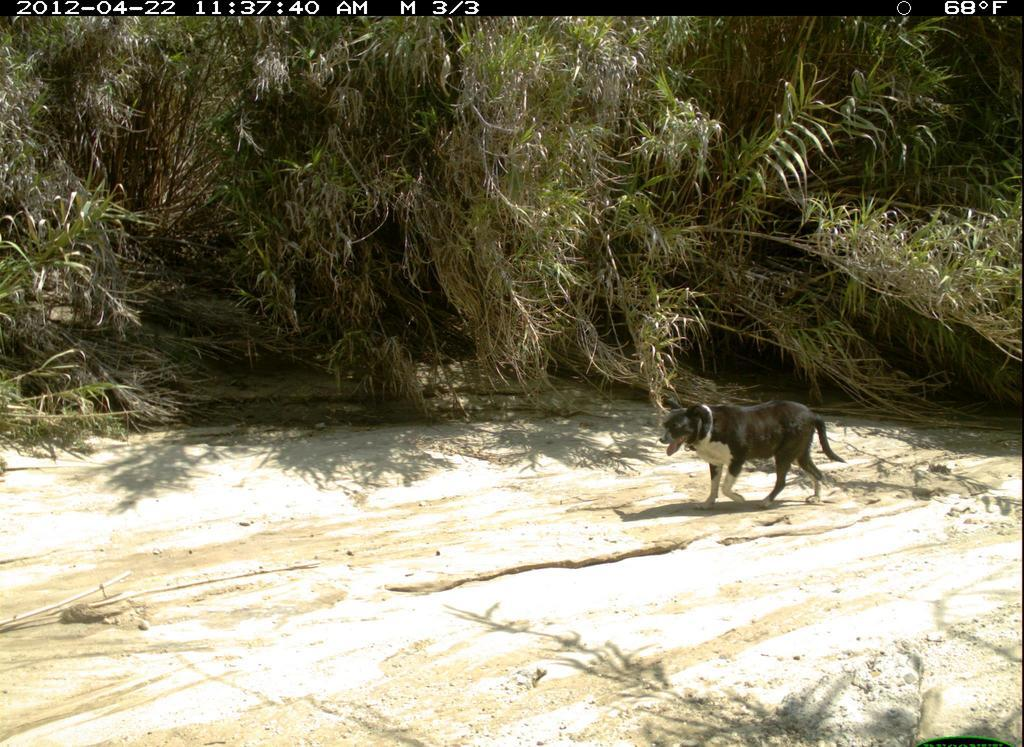dog: (648, 388, 856, 510)
